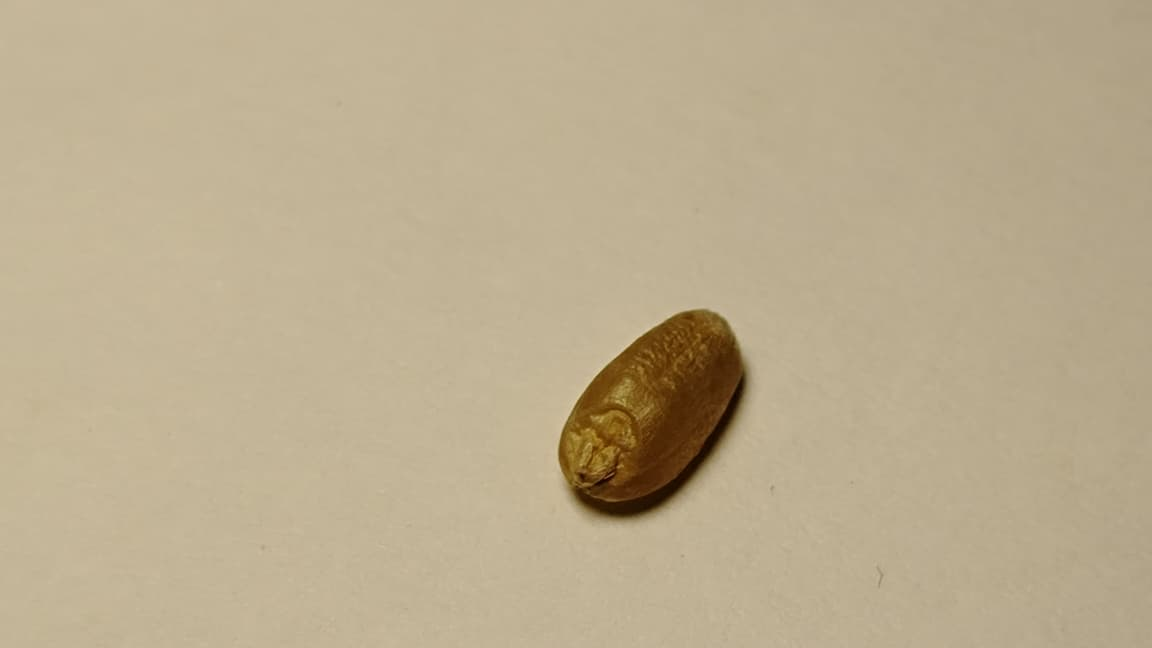healthy: (560, 310, 741, 501)
